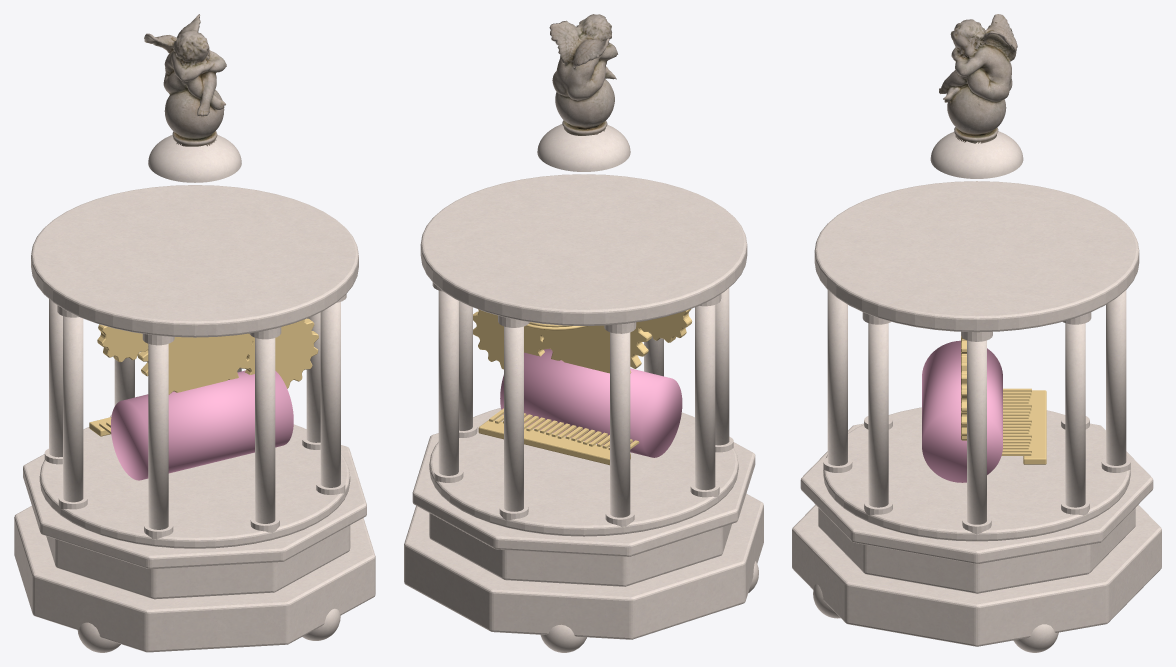
Rendered from k2-automat.glb.
The picture shows the model from 3 angles, left to right: view 1: azimuth 30°, elevation 25°; view 2: azimuth 150°, elevation 25°; view 3: azimuth 270°, elevation 25°; orthographic projection.
Visible parts, largest first — view 1: gehaeuse, sockel, walze, putto, zahnrad1, kuppel, zahnrad2, zahnrad3; view 2: gehaeuse, sockel, walze, putto, kuppel, kamm, zahnrad1, zahnrad2, zahnrad3; view 3: gehaeuse, sockel, putto, walze, kuppel, kamm.
Part boxes in pixels (left/top/right/bottom): gehaeuse: left=31, top=185, right=358, bottom=548; sockel: left=14, top=445, right=375, bottom=652; walze: left=110, top=370, right=293, bottom=480; putto: left=144, top=14, right=226, bottom=146; zahnrad1: left=137, top=333, right=254, bottom=394; kuppel: left=148, top=135, right=241, bottom=182; zahnrad2: left=245, top=318, right=318, bottom=388; zahnrad3: left=97, top=324, right=148, bottom=362; gehaeuse: left=420, top=174, right=747, bottom=536; sockel: left=404, top=433, right=763, bottom=652; walze: left=500, top=348, right=682, bottom=457; putto: left=549, top=14, right=617, bottom=135; kuppel: left=537, top=124, right=630, bottom=171; kamm: left=478, top=408, right=639, bottom=465; zahnrad1: left=532, top=321, right=651, bottom=373; zahnrad2: left=473, top=309, right=545, bottom=369; zahnrad3: left=641, top=309, right=692, bottom=342; gehaeuse: left=814, top=181, right=1139, bottom=541; sockel: left=792, top=423, right=1161, bottom=652; putto: left=939, top=14, right=1017, bottom=143; walze: left=922, top=340, right=1002, bottom=482; kuppel: left=930, top=131, right=1023, bottom=178; kamm: left=1001, top=388, right=1046, bottom=464.
Bounding box in the file's own units: 1.27 × 2.16 × 1.27.
4 materials, 2 textured.
